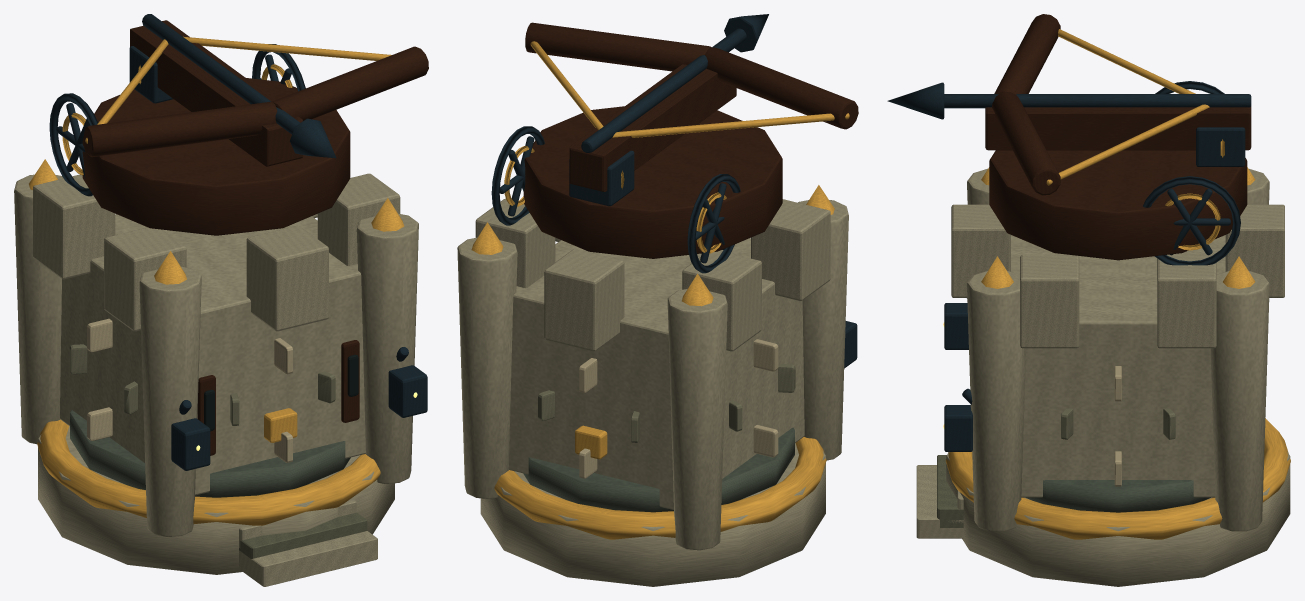
Rendered from tower-ballista-2-base.glb.
3 views of the same model, side by side, from view 1: azimuth 30°, elevation 25°; view 2: azimuth 150°, elevation 25°; view 3: azimuth 270°, elevation 25° (orthographic). The views are drawn at different scales.
Parts seen in each view (by area): view 1: Foundation, Turret, ballista-L2-base; view 2: Foundation, Turret, ballista-L2-base; view 3: Foundation, Turret, ballista-L2-base.
Part boxes in pixels (<box>): Foundation: <box>14,159,427,586</box>; Turret: <box>49,14,428,235</box>; ballista-L2-base: <box>38,410,394,574</box>; Foundation: <box>457,185,857,550</box>; Turret: <box>491,14,858,273</box>; ballista-L2-base: <box>480,427,825,586</box>; Foundation: <box>916,167,1290,539</box>; Turret: <box>887,14,1251,265</box>; ballista-L2-base: <box>946,451,1290,586</box>.
Size of the model in its own units: 1.83 by 2.33 by 1.97.
Materials: 10 (10 with a texture image).
